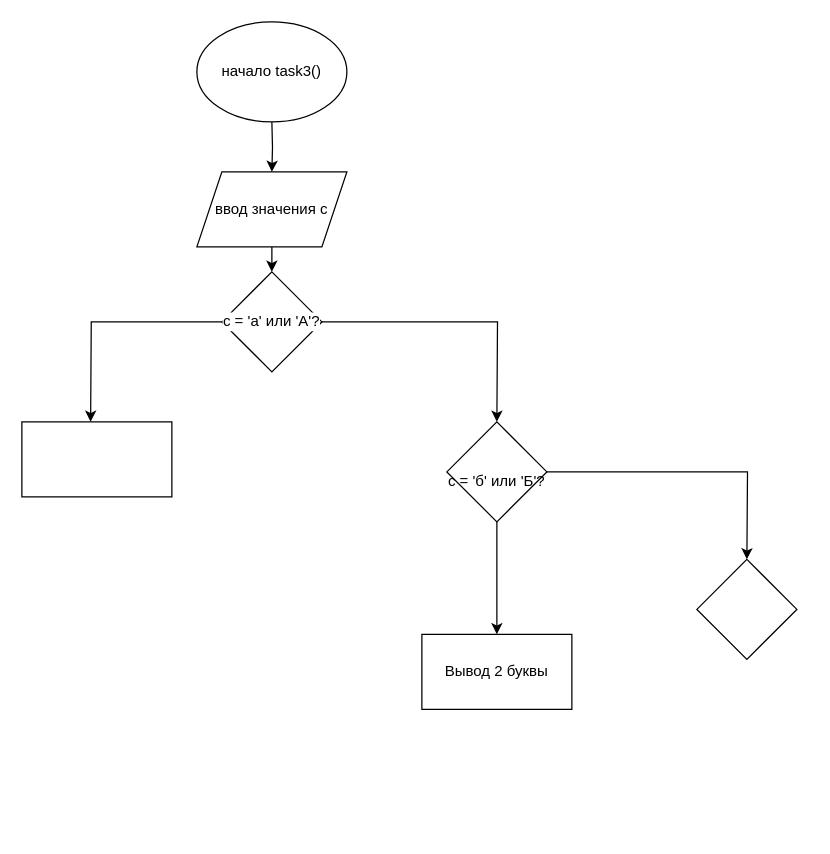
The diagram is 830 pixels wide and 854 high, and some of its shapes have lost their labels. The shapes that lost their labels are listed below. From the top down, each one's centre as x and y in pixels, then its label:
At (96,459): "Вывод 1 буква".
At (746,608): "с=в или 'В'".
